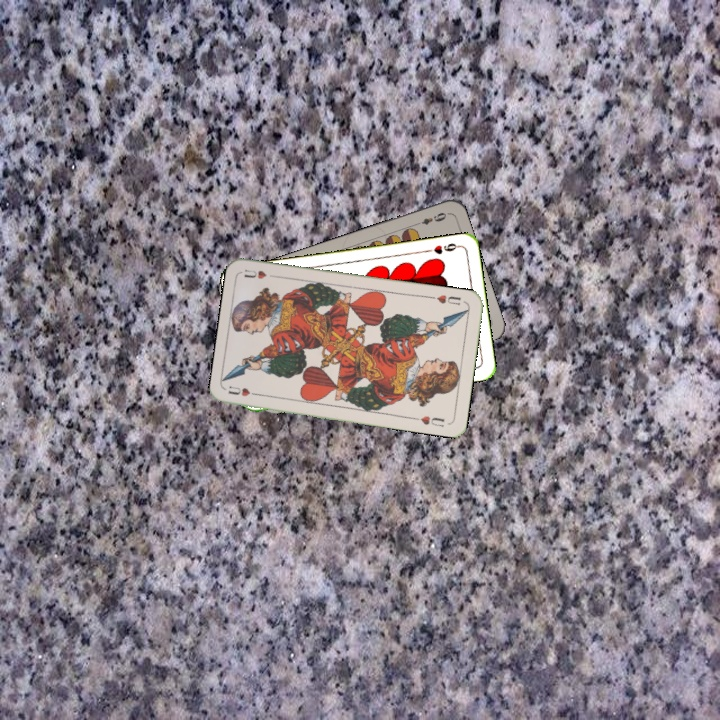E9: (411, 208, 450, 228)
H9: (422, 239, 462, 257)
HU: (224, 382, 264, 399), (433, 291, 464, 308)
